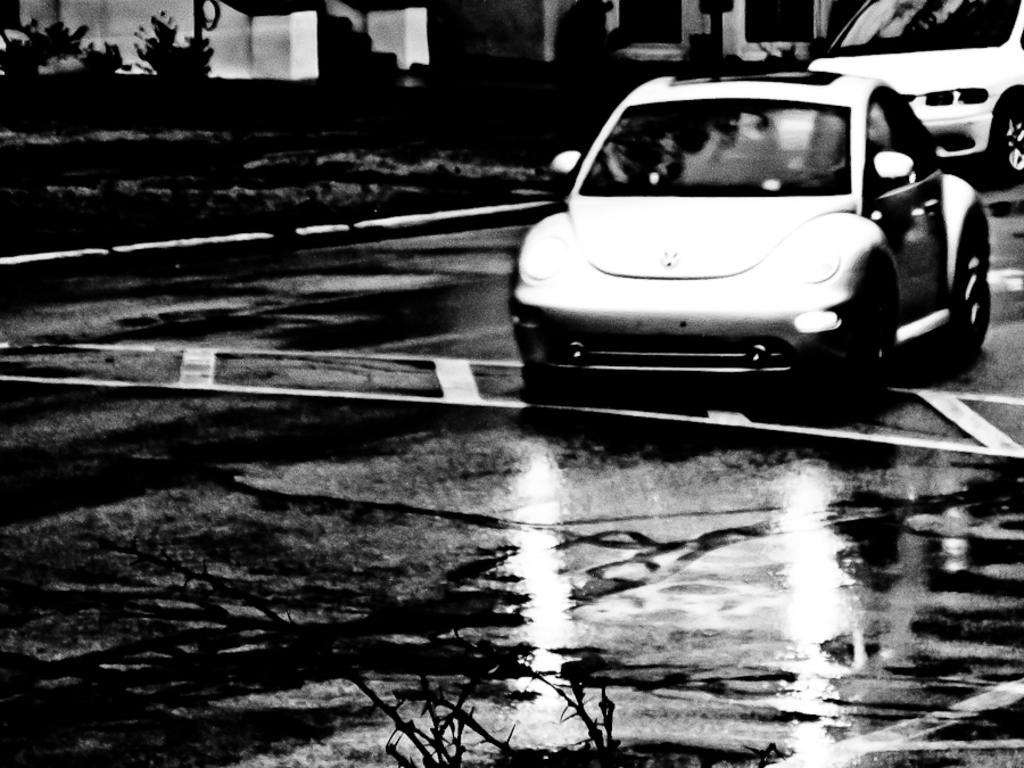Car: (491, 44, 996, 450), (803, 0, 1022, 179)
